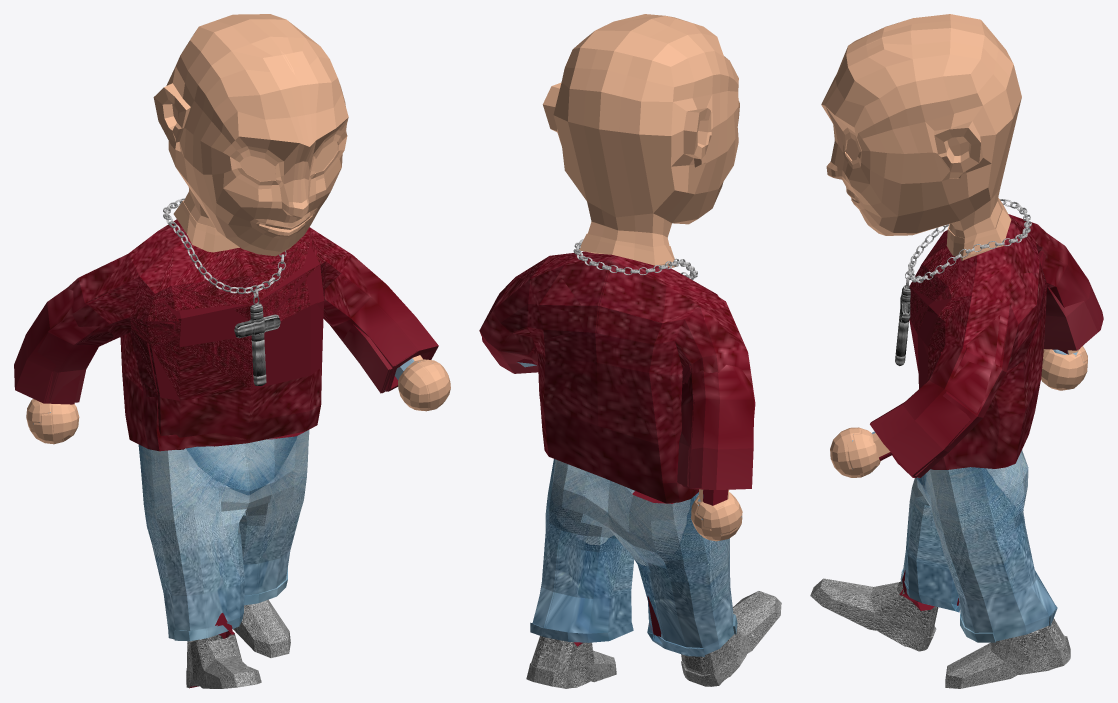
File: religion3.fbx
3 renders of one model, left to right at view 1: azimuth 30°, elevation 25°; view 2: azimuth 150°, elevation 25°; view 3: azimuth 270°, elevation 25°, orthographic.
Parts seen in each view (by area): view 1: head.001, necklessCross, NecklaceChain.001; view 2: head.001, NecklaceChain.001; view 3: head.001, NecklaceChain.001, necklessCross.
Boxes of the visible parts, x1=… form: head.001: x1=14, y1=14, x2=450, y2=688; necklessCross: x1=234, y1=303, x2=280, y2=385; NecklaceChain.001: x1=163, y1=198, x2=286, y2=294; head.001: x1=479, y1=14, x2=781, y2=688; NecklaceChain.001: x1=573, y1=239, x2=697, y2=279; head.001: x1=810, y1=14, x2=1103, y2=688; NecklaceChain.001: x1=907, y1=199, x2=1031, y2=282; necklessCross: x1=895, y1=285, x2=910, y2=365.
Bounding box in the file's own units: 663 × 1207 × 499.
